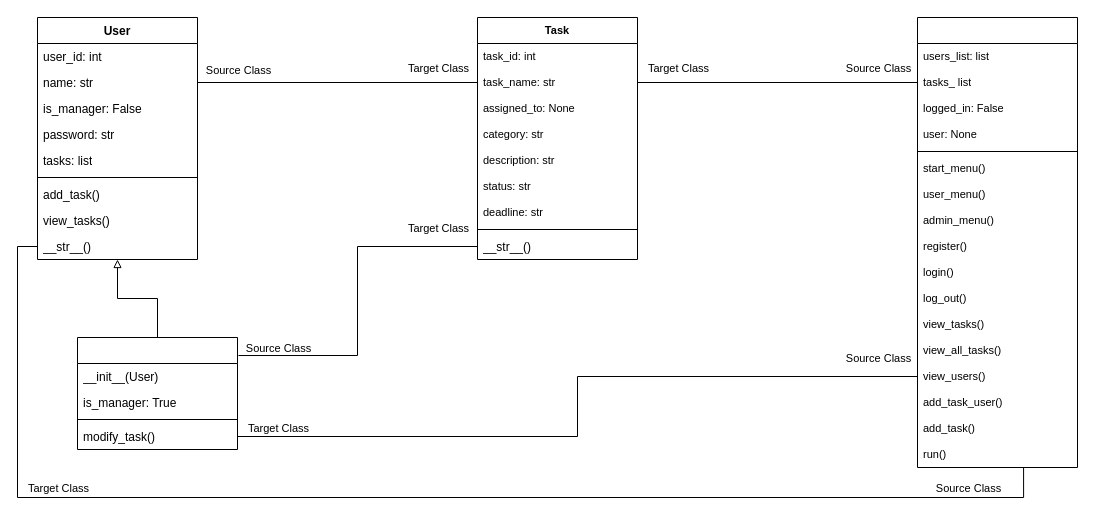
Some shapes in this 1095 by 516 pixel diagram are drawn without their labels. The box of each missing label's shape, as (x1, y1, x2, y2) in pixels:
Admin: (76, 336, 238, 450)
TaskManagerApp: (916, 16, 1078, 468)
